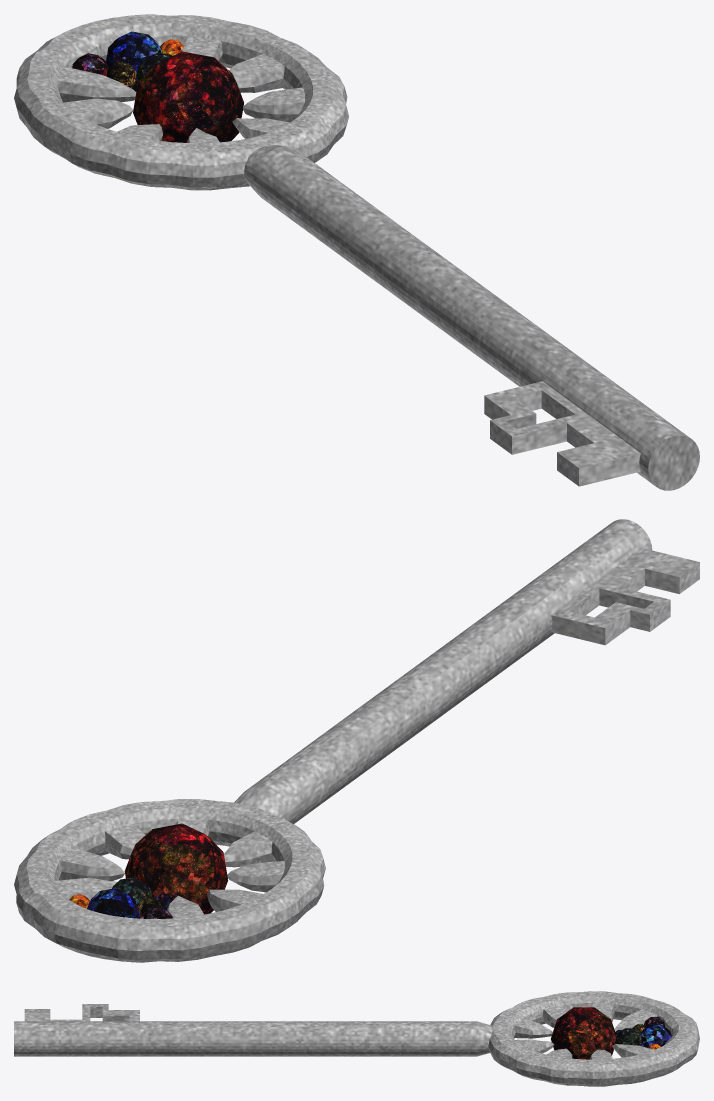
The model's file is silverKey.fbx.
3 renders of one model, top to bottom at view 1: azimuth 30°, elevation 25°; view 2: azimuth 150°, elevation 25°; view 3: azimuth 270°, elevation 25°, orthographic. The views are drawn at different scales.
Visible parts, largest first — view 1: Cube.001, Torus.001, Gem; view 2: Cube.001, Torus.001, Gem; view 3: Cube.001, Torus.001, Gem.
Boxes of the visible parts, x1,y1,x2,y2 form: Cube.001: (244,145,699,490); Torus.001: (14,14,348,190); Gem: (72,31,243,142); Cube.001: (234,519,699,823); Torus.001: (14,799,325,962); Gem: (69,823,228,918); Cube.001: (14,1004,492,1056); Torus.001: (488,991,699,1086); Gem: (551,1007,671,1059).
Size of the model in its own units: 261 by 92.26 by 948.
